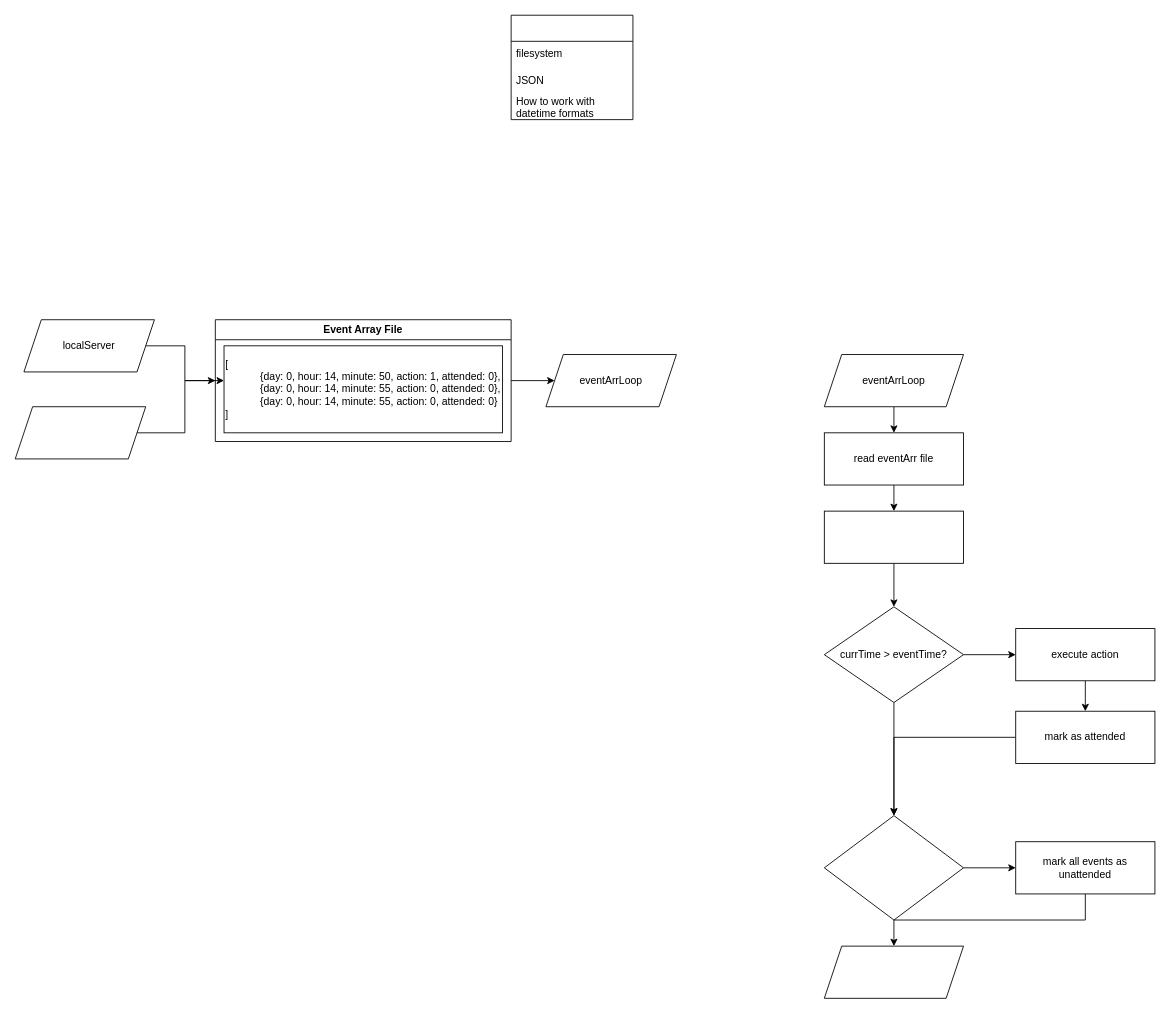
Some shapes in this 1170 by 1014 pixel diagram are drawn without their labels. Here are the shapes that lost their labels. From the top down, the box of each, then its label:
(510, 14, 633, 120): ToDo
(14, 406, 146, 459): telegram
(823, 510, 964, 563): check each eventArr element
(823, 815, 964, 920): currTime == monday midnight?
(823, 945, 964, 998): end
